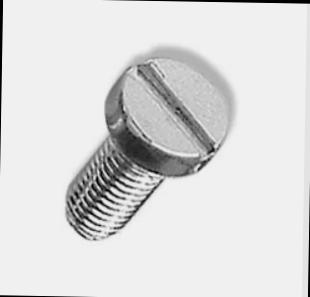screw: (103, 52, 229, 178)
